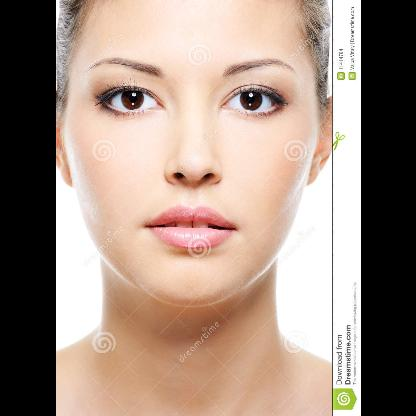Female: (55, 0, 331, 304)
